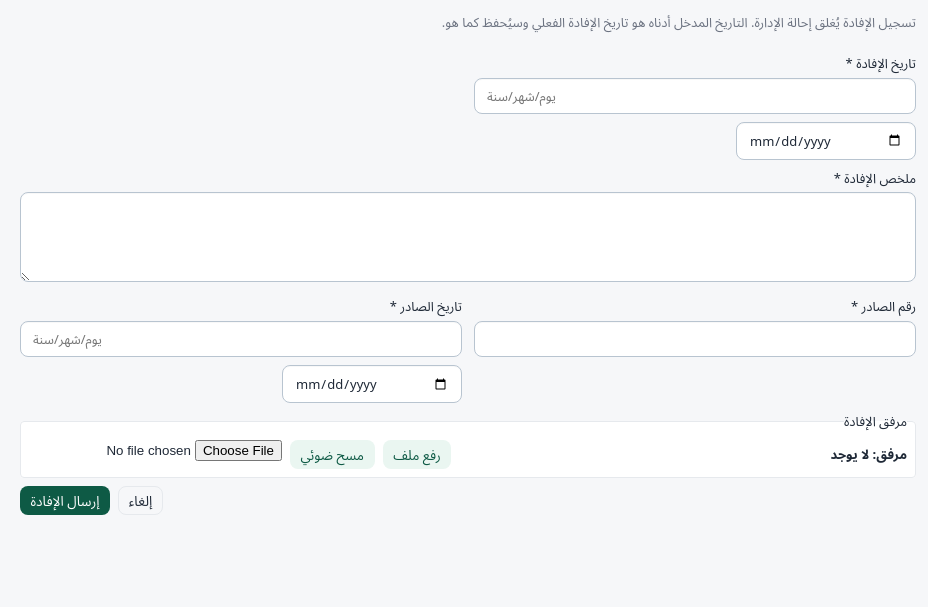
CompleteResponseFormPanel › does not submit a response requiring outgoing details without an outgoing date
Type "16/01/1448" into the field labelled "تاريخ الإفادة *". click: (695, 96)
box: x1=474 y1=78 x2=916 y2=114
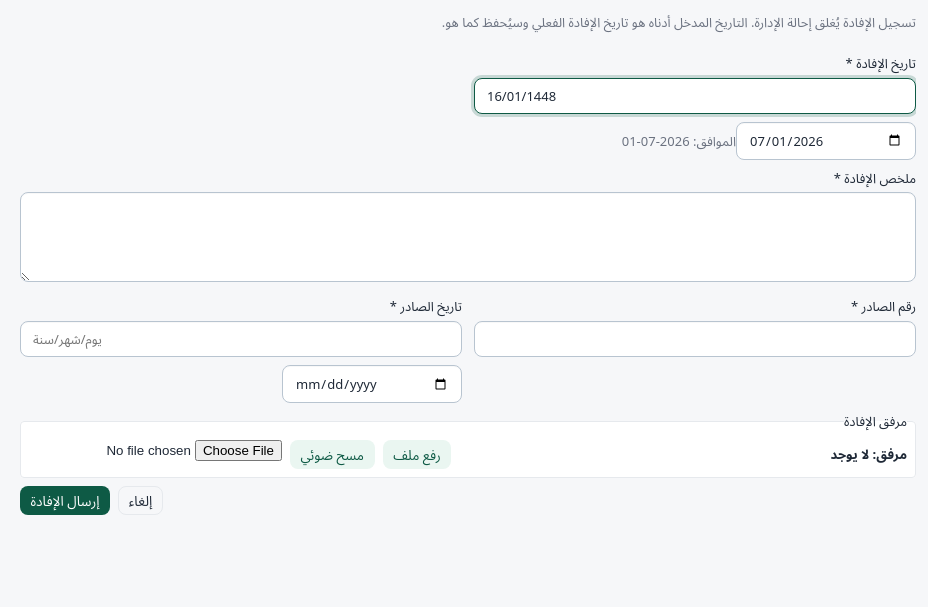
Type "ملخص الإفادة" into the text box labelled "ملخص الإفادة *". click: (468, 237)
box: x1=20 y1=192 x2=916 y2=282
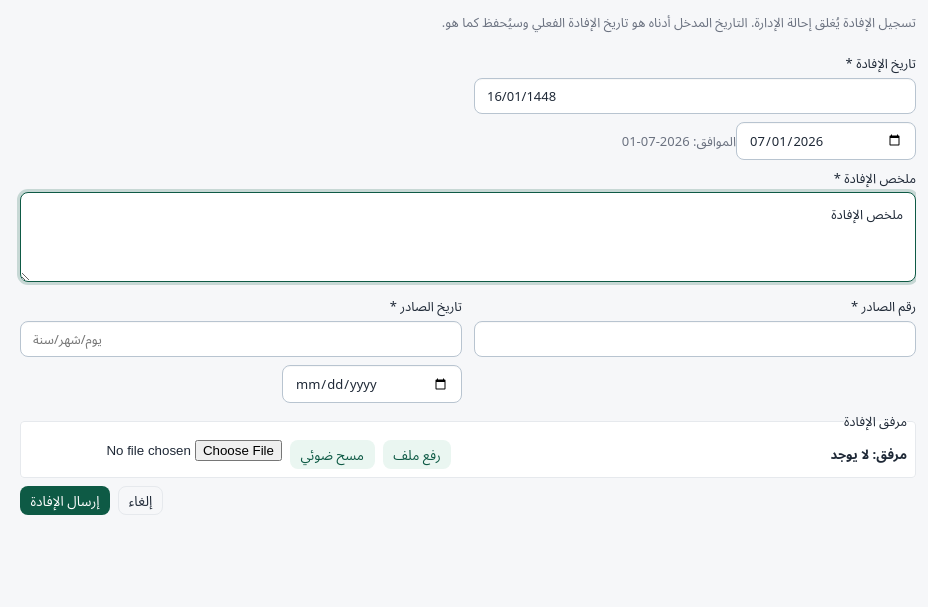
Type "OUT-1" into the field labelled "رقم الصادر *". click: (695, 339)
box: x1=474 y1=321 x2=916 y2=357
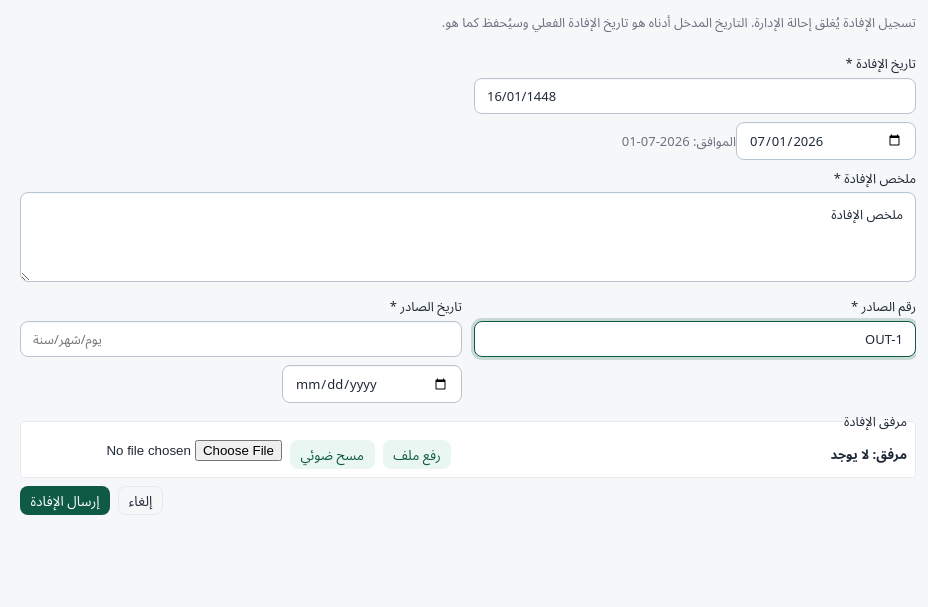
Click the button "إرسال الإفادة". click: (65, 500)
box: x1=20 y1=486 x2=110 y2=515
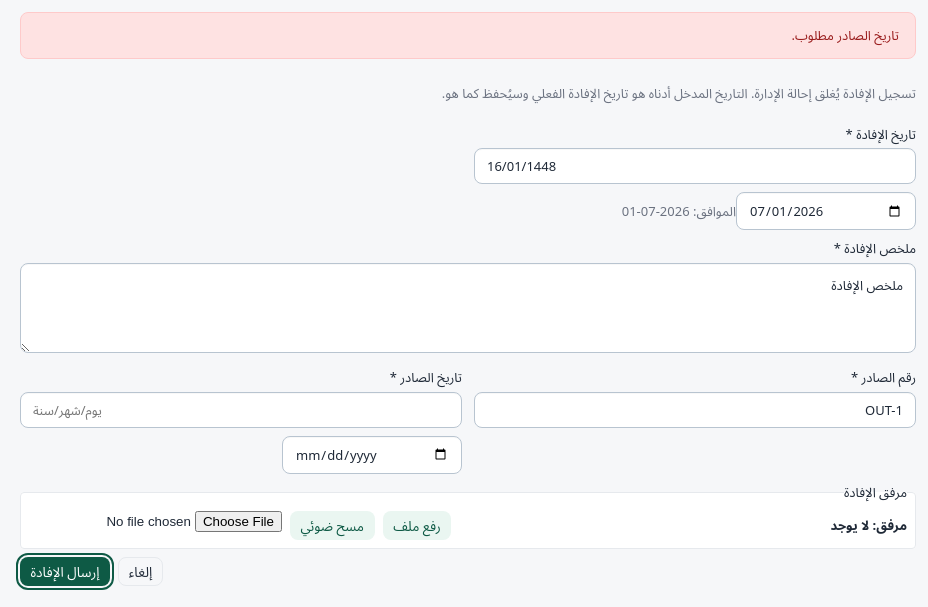
expect the text "تاريخ الصادر مطلوب." is shown: met, box x1=20 y1=12 x2=916 y2=59
